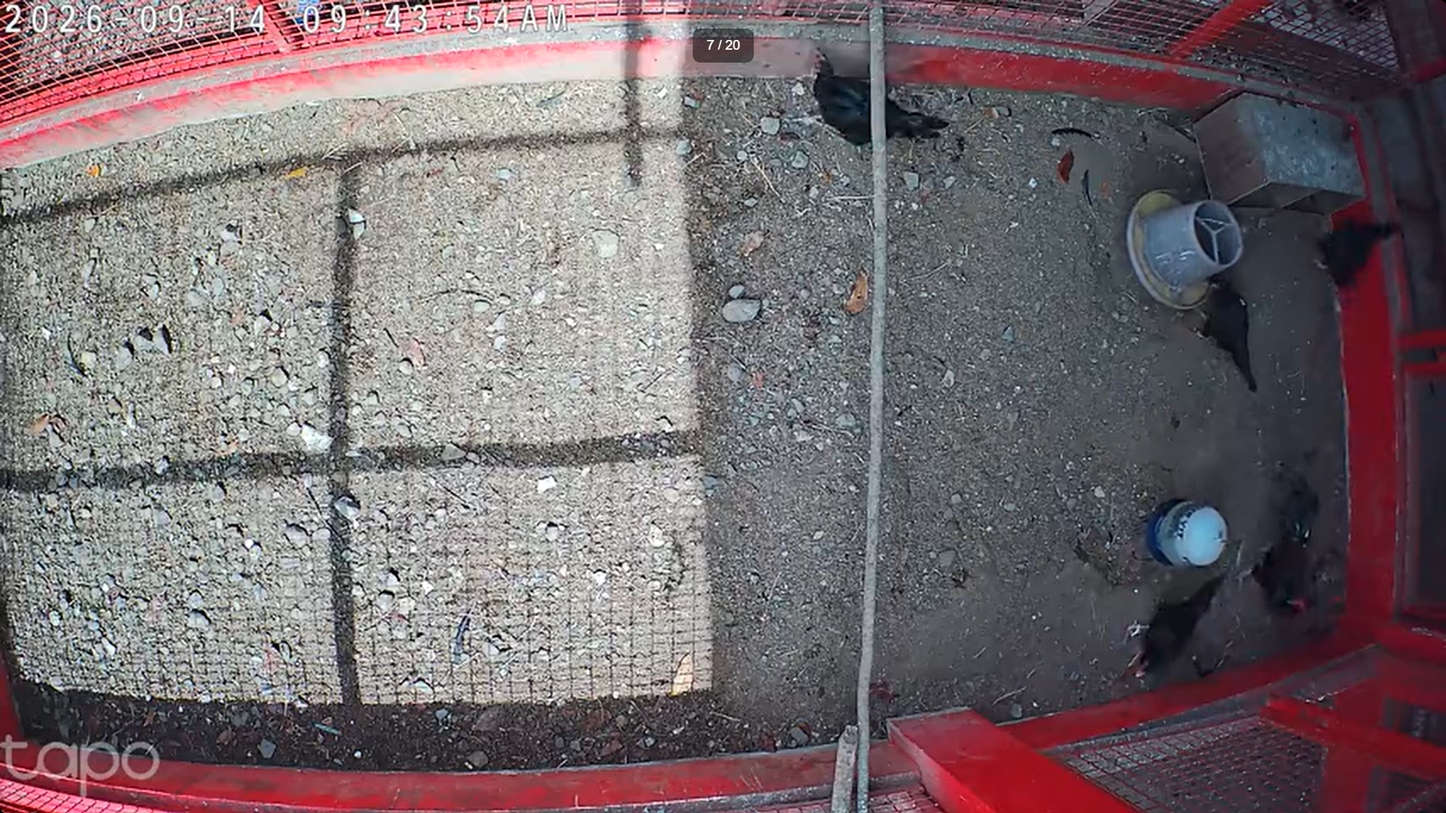Chicken: (795, 45, 949, 145), (1126, 570, 1233, 681), (1191, 274, 1262, 396)
